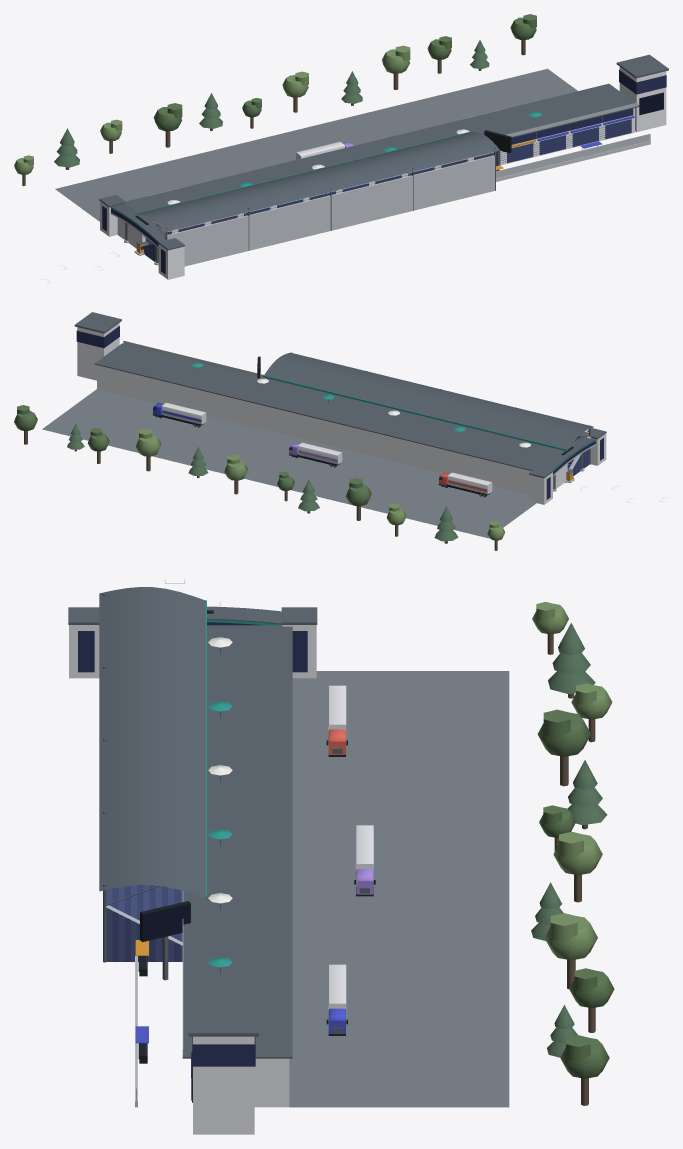
The model's file is circuit.glb.
The picture shows the model from 3 angles, top to bottom: view 1: azimuth 30°, elevation 25°; view 2: azimuth 150°, elevation 25°; view 3: azimuth 270°, elevation 25°; orthographic projection. The views are drawn at different scales.
Parts seen in each view (by area): view 1: PitBuilding, Grandstand, Footbridge; view 2: PitBuilding, Grandstand, Footbridge; view 3: PitBuilding, Grandstand, Footbridge.
Boxes of the visible parts, bbox=[...] form: PitBuilding: bbox=[14, 14, 668, 248]; Grandstand: bbox=[135, 130, 511, 266]; Footbridge: bbox=[99, 194, 184, 279]; PitBuilding: bbox=[14, 312, 567, 550]; Grandstand: bbox=[257, 352, 593, 476]; Footbridge: bbox=[529, 428, 606, 504]; PitBuilding: bbox=[135, 601, 614, 1134]; Grandstand: bbox=[99, 587, 206, 980]; Footbridge: bbox=[68, 606, 317, 678].
Bounding box in the file's own units: 192 × 16.5 × 79.4.
